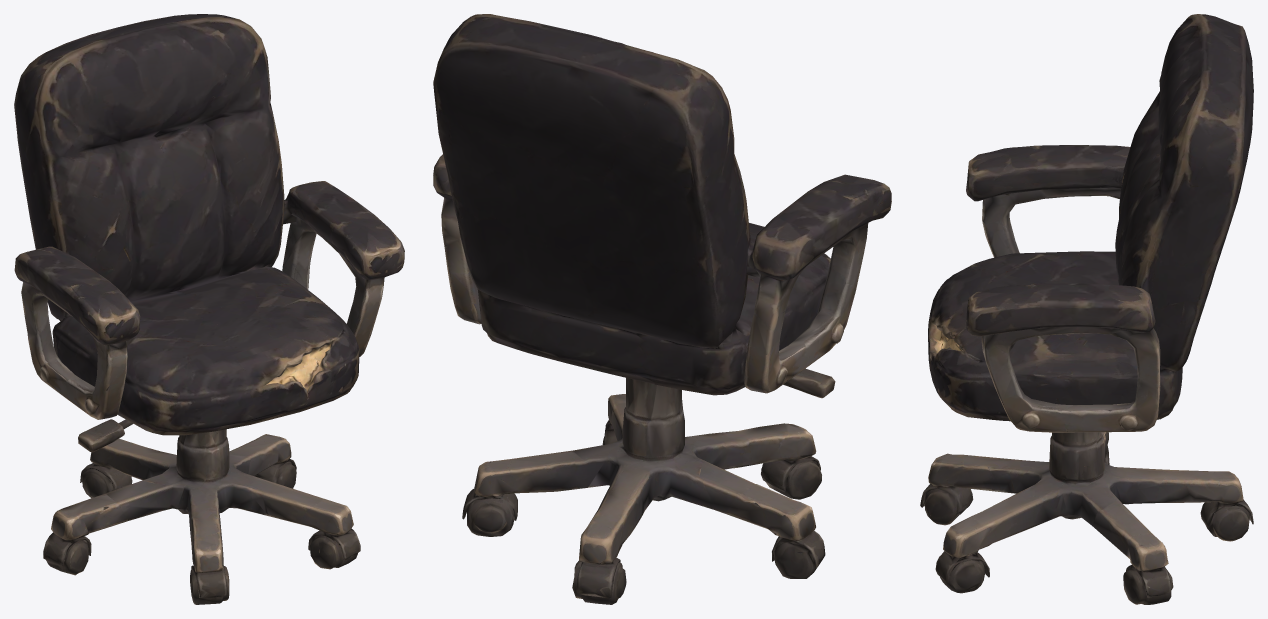
File: d_office_chair.glb
3 views of the same model, side by side, from view 1: azimuth 30°, elevation 25°; view 2: azimuth 150°, elevation 25°; view 3: azimuth 270°, elevation 25° (orthographic). The views are drawn at different scales.
Size of the model in its own units: 1.33 by 1.9 by 1.16.
Materials: 1 (1 with a texture image).
